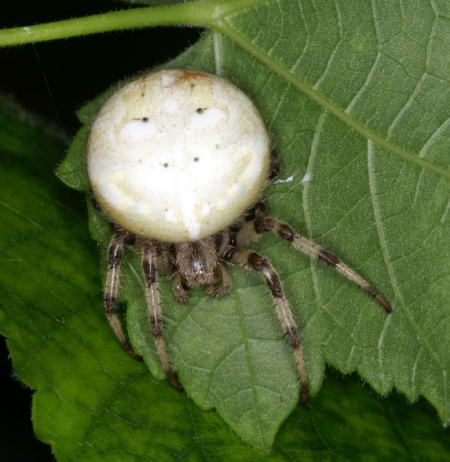spider: (64, 59, 405, 396)
